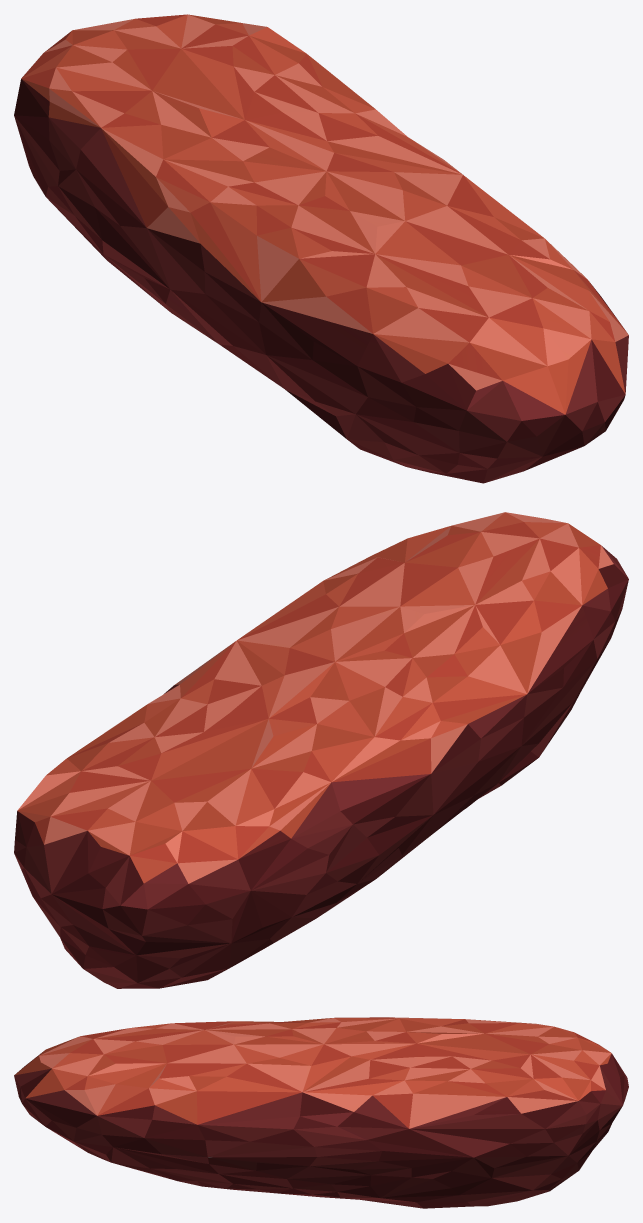
The model's file is Rec_L.fbx.
3 renders of one model, top to bottom at view 1: azimuth 30°, elevation 25°; view 2: azimuth 150°, elevation 25°; view 3: azimuth 270°, elevation 25°, orthographic. The views are drawn at different scales.
Parts seen in each view (by area): view 1: Recangle_Island_Low2; view 2: Recangle_Island_Low2; view 3: Recangle_Island_Low2.
Boxes of the visible parts, left/top/right/bottom form: Recangle_Island_Low2: left=14, top=14, right=628, bottom=483; Recangle_Island_Low2: left=14, top=512, right=628, bottom=988; Recangle_Island_Low2: left=14, top=1017, right=628, bottom=1208.
Size of the model in its own units: 1362 by 1030 by 3917.
